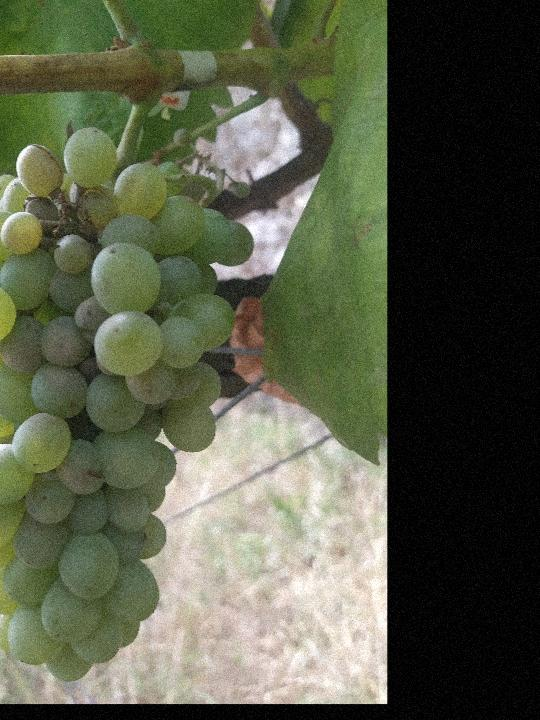grape: (0, 120, 256, 682)
